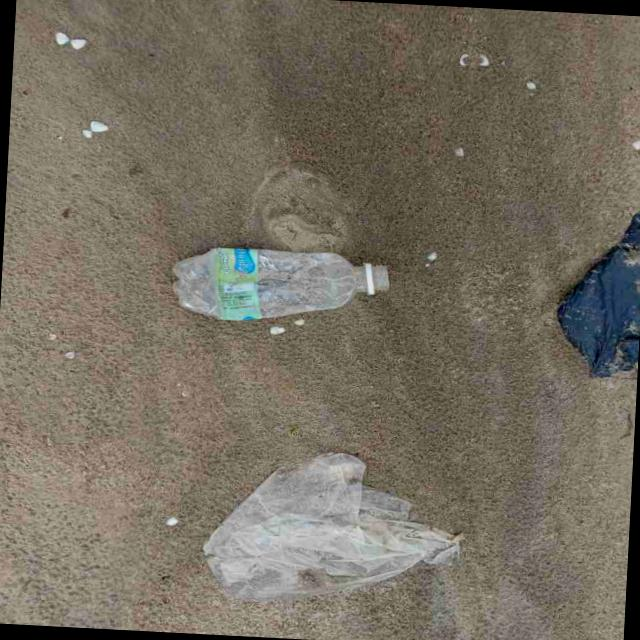chai_nhua: (175, 248, 388, 320)
nhua: (204, 454, 459, 601), (560, 214, 640, 377)
